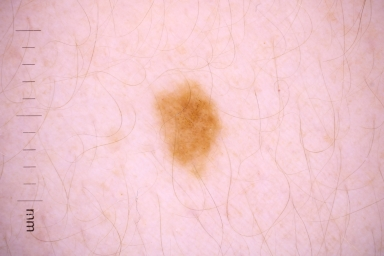melanoma: (158, 83, 224, 180)
